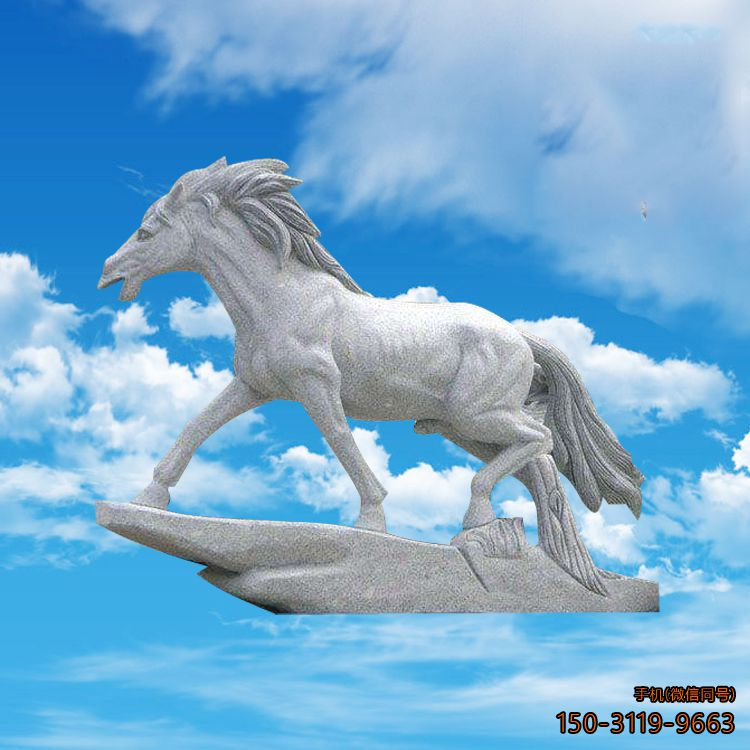background: (91, 157, 649, 589)
